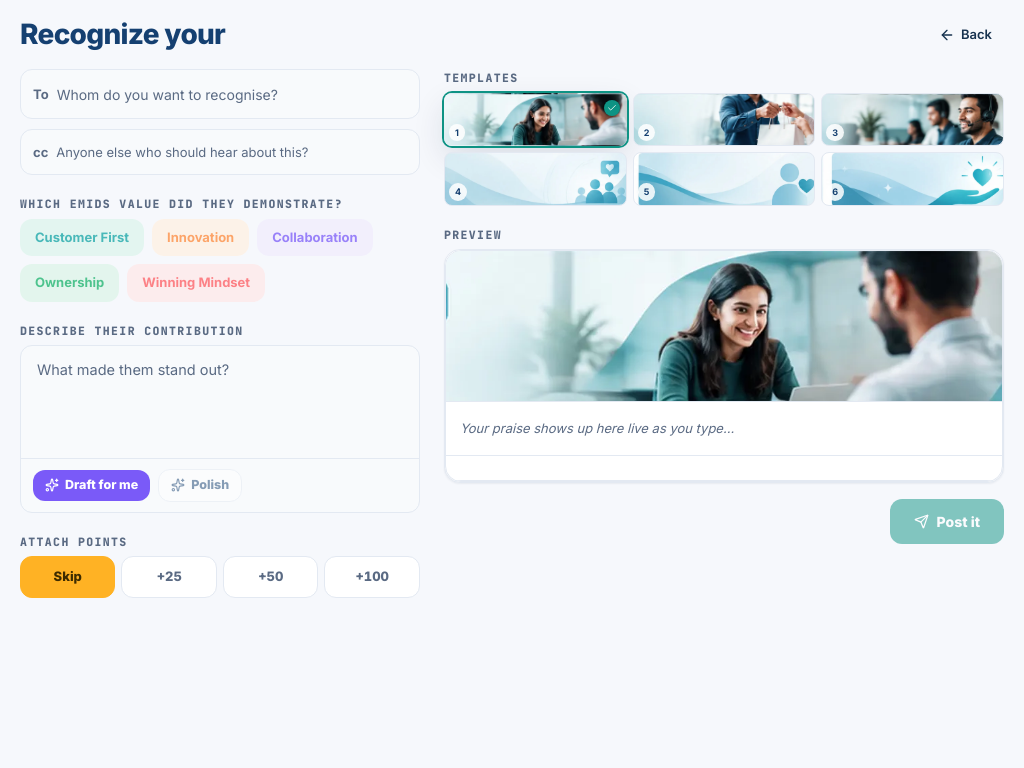
ComposeForm extras (client interactions) › typing a non-matching query shows the no-match copy
Type "zzzqqq" into the field with placeholder "Whom do you want to recognise?" at (232, 94), box [57,78,407,110]
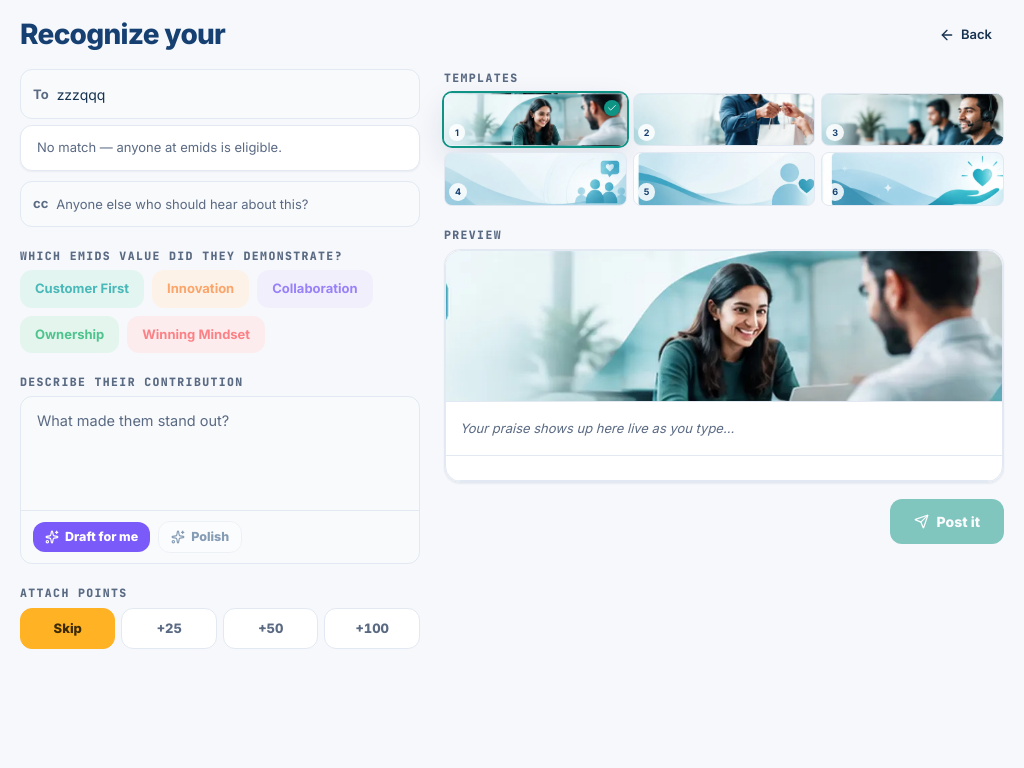
Check: the text "No match — anyone at emids is eligible." is shown, box [37,139,282,155]
